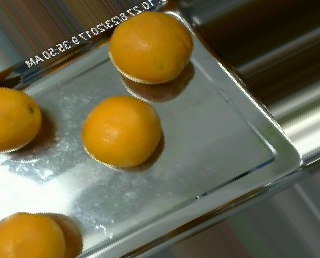Orange: (107, 11, 195, 84), (81, 95, 162, 168)
